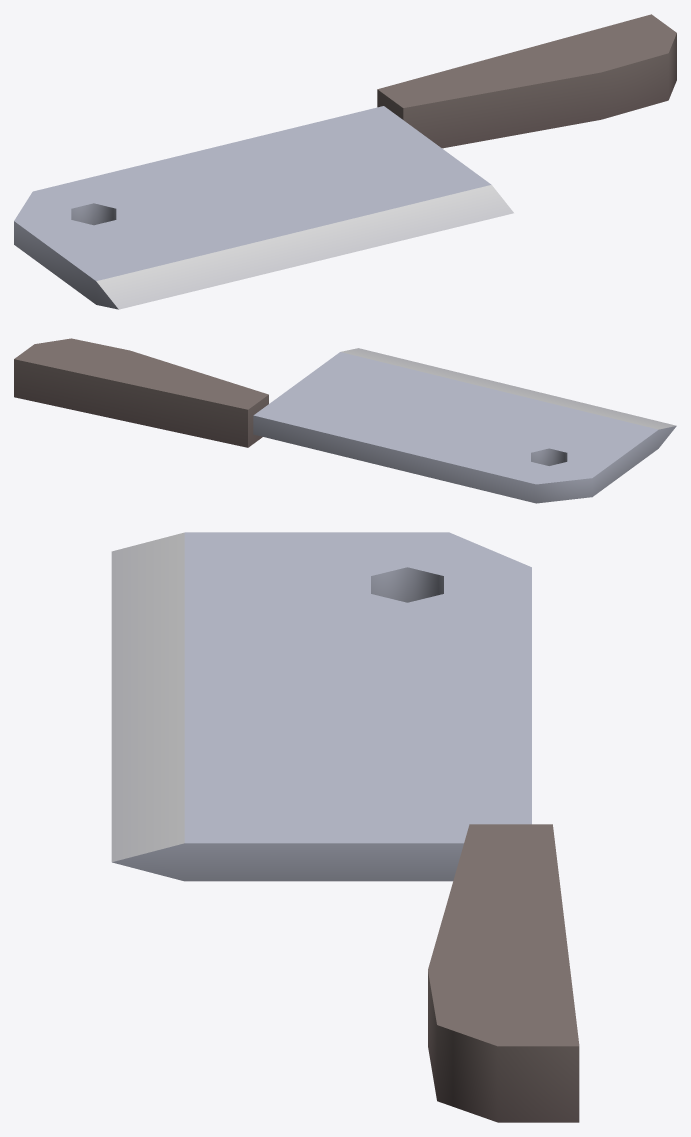
File: cooking-knife-chopping.glb
3 views of the same model, one above another, from view 1: azimuth 30°, elevation 25°; view 2: azimuth 150°, elevation 25°; view 3: azimuth 270°, elevation 25° (orthographic). The views are drawn at different scales.
Visible parts, largest first — view 1: cooking-knife-chopping; view 2: cooking-knife-chopping; view 3: cooking-knife-chopping.
Part boxes in pixels (x1,y1,x2,y2): cooking-knife-chopping: (14,14,676,309); cooking-knife-chopping: (14,338,676,503); cooking-knife-chopping: (111,532,579,1122).
Size of the model in its own units: 0.6 by 0.04 by 0.2227.
